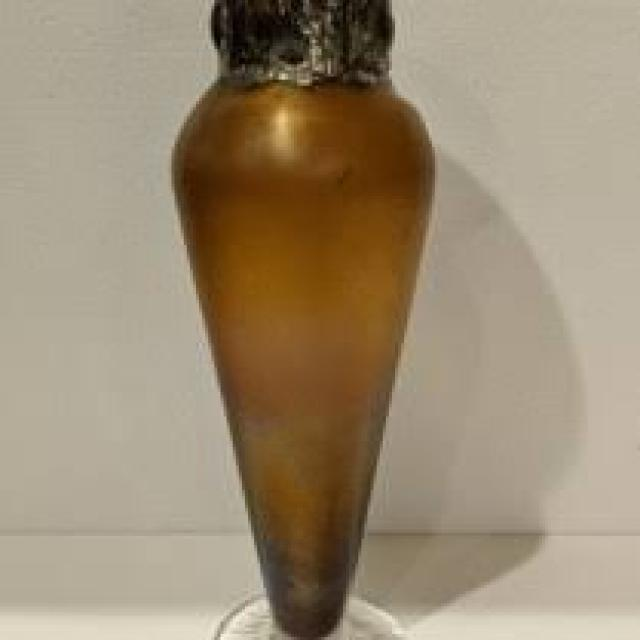glass: (165, 0, 432, 637)
